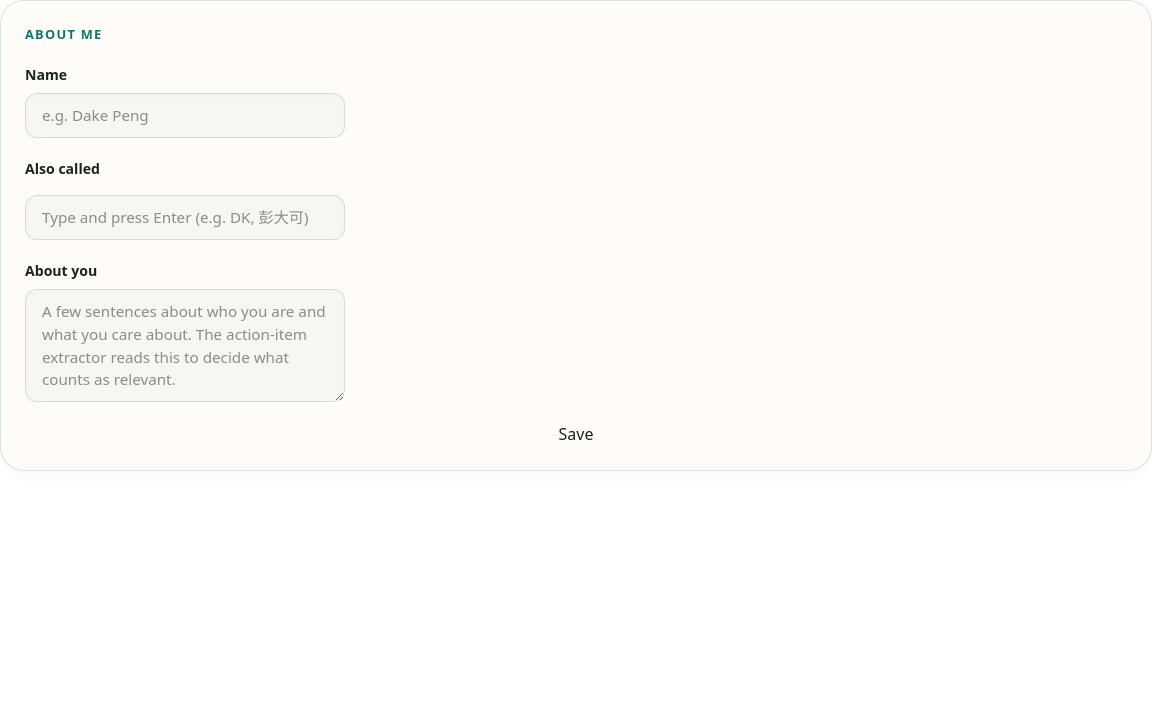
Scenario: ProfileSection (About me) › preserves CJK alias verbatim
Type "彭大可" into the field with placeholder "Type and press Enter (e.g. DK, 彭大可)". click: (185, 218)
box: [25,195,345,240]
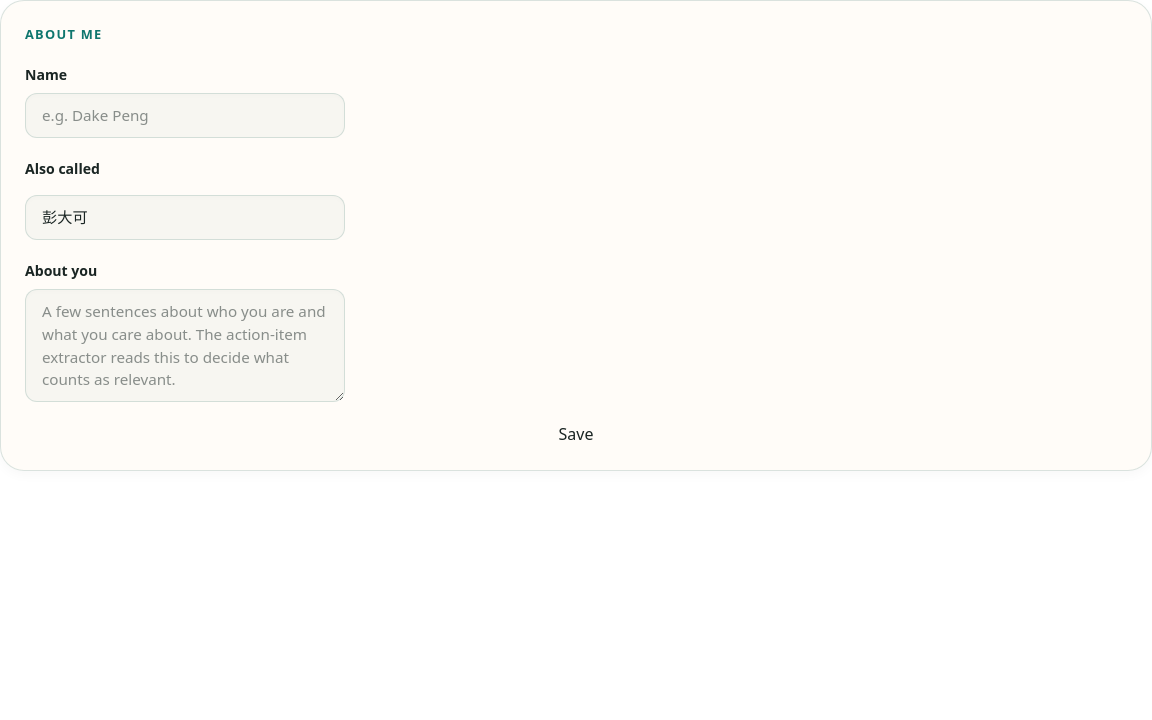
Press Enter in the field with placeholder "Type and press Enter (e.g. DK, 彭大可)", box [25,195,345,240]
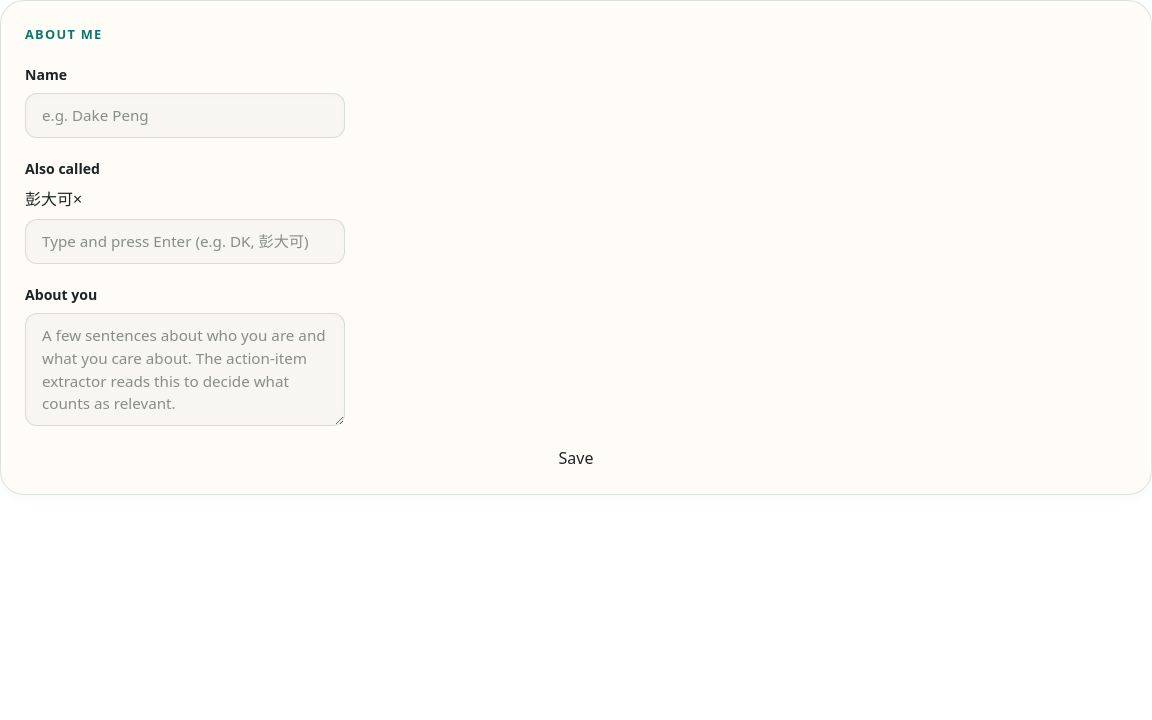
expect the text "彭大可" is shown: met, box [25,188,73,210]
